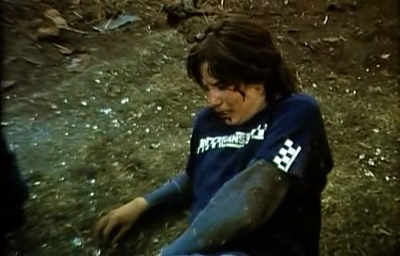face: (201, 66, 249, 125)
ms: (1, 1, 400, 256)
person: (93, 16, 335, 255)
